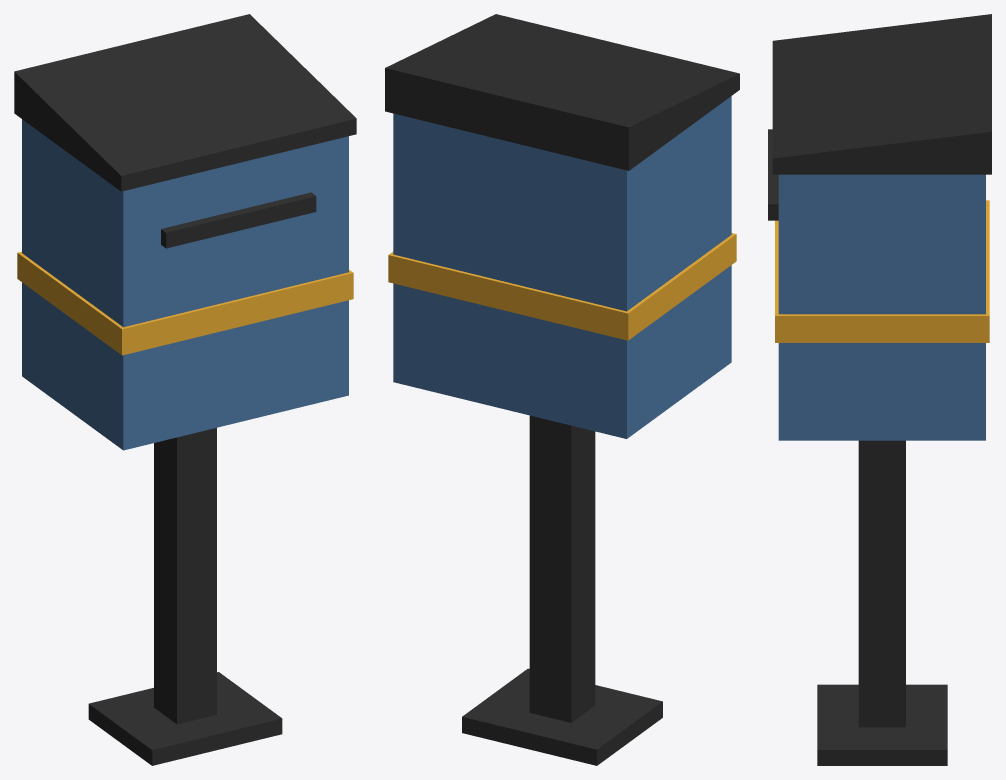
The model's file is mailbox.glb.
The picture shows the model from 3 angles, left to right: view 1: azimuth 30°, elevation 25°; view 2: azimuth 150°, elevation 25°; view 3: azimuth 270°, elevation 25°; orthographic projection. The views are drawn at different scales.
Parts seen in each view (by area): view 1: Mailbox; view 2: Mailbox; view 3: Mailbox.
Boxes of the visible parts, bbox=[...] form: Mailbox: bbox=[14, 14, 356, 765]; Mailbox: bbox=[385, 14, 739, 765]; Mailbox: bbox=[768, 14, 991, 765].
Size of what is drawn, in the model's own units: 0.47 by 1.23 by 0.378.
Materials: 1 (1 with a texture image).
